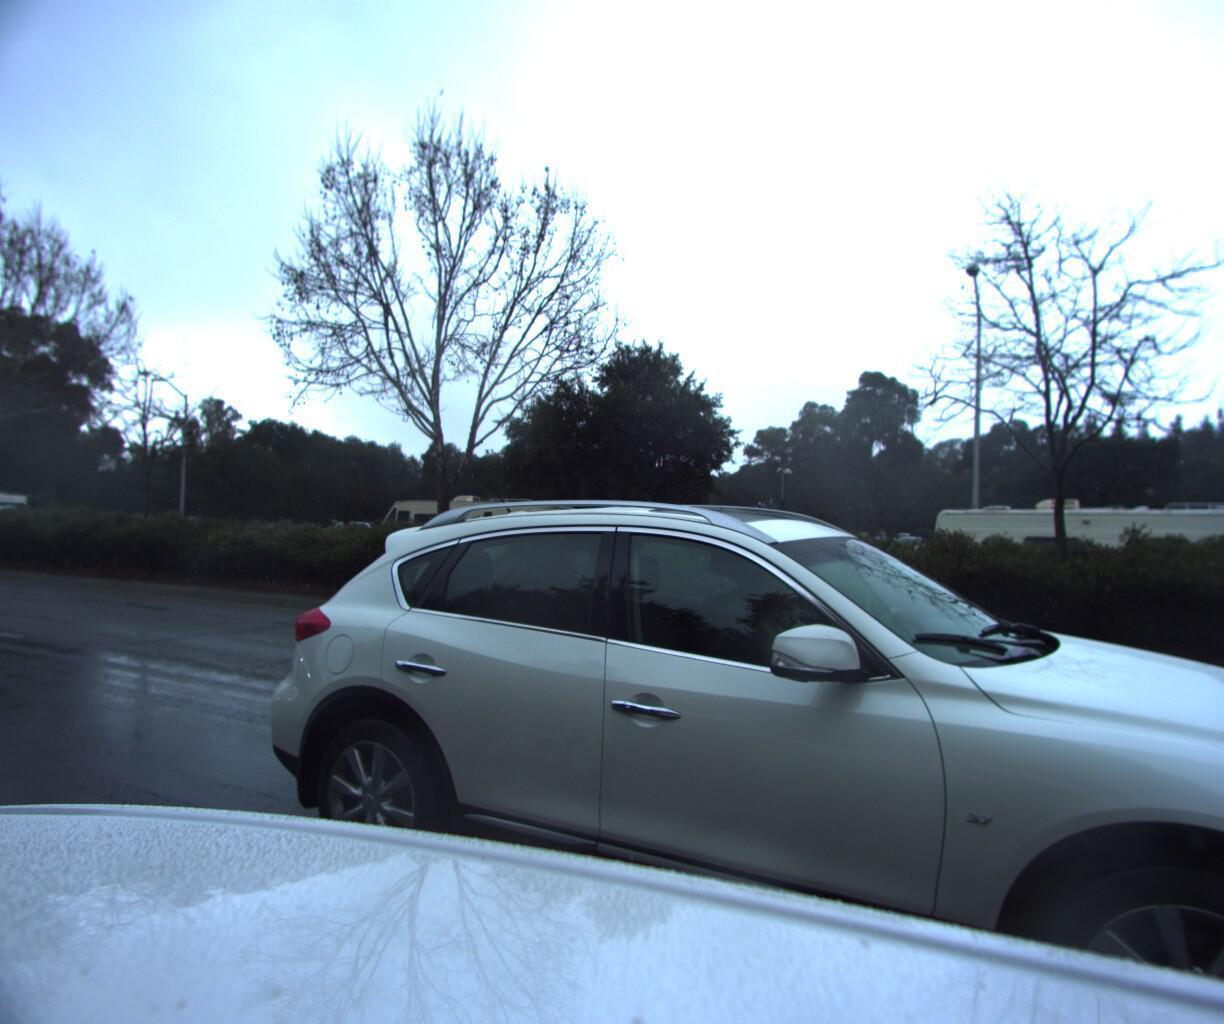car: (221, 447, 1224, 1024)
other_vehicle: (916, 485, 1224, 633), (369, 490, 585, 583), (0, 488, 30, 549)
